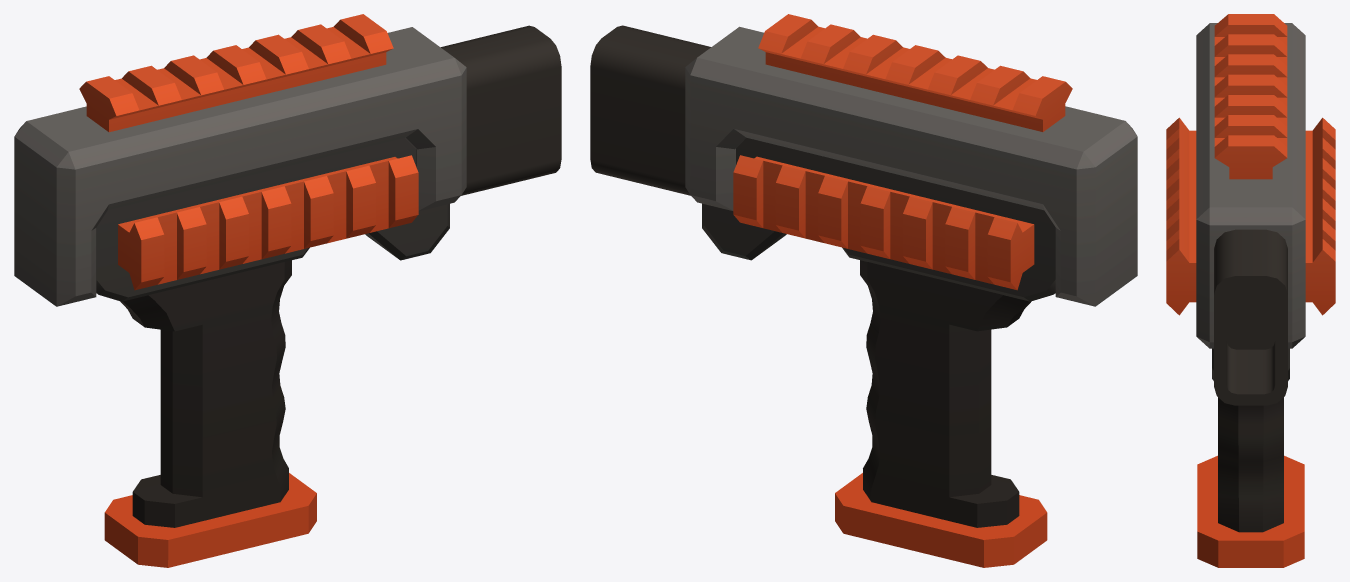
The model's file is AR6_Handguard.fbx.
3 renders of one model, left to right at view 1: azimuth 30°, elevation 25°; view 2: azimuth 150°, elevation 25°; view 3: azimuth 270°, elevation 25°, orthographic. The views are drawn at different scales.
Parts seen in each view (by area): view 1: AR6_Handguard; view 2: AR6_Handguard; view 3: AR6_Handguard.
Boxes of the visible parts, x1,y1,x2,y2 form: AR6_Handguard: (14, 14, 561, 567); AR6_Handguard: (590, 14, 1137, 567); AR6_Handguard: (1166, 14, 1335, 567).
Bounding box in the file's own units: 20.44 × 18.03 × 6.05.
